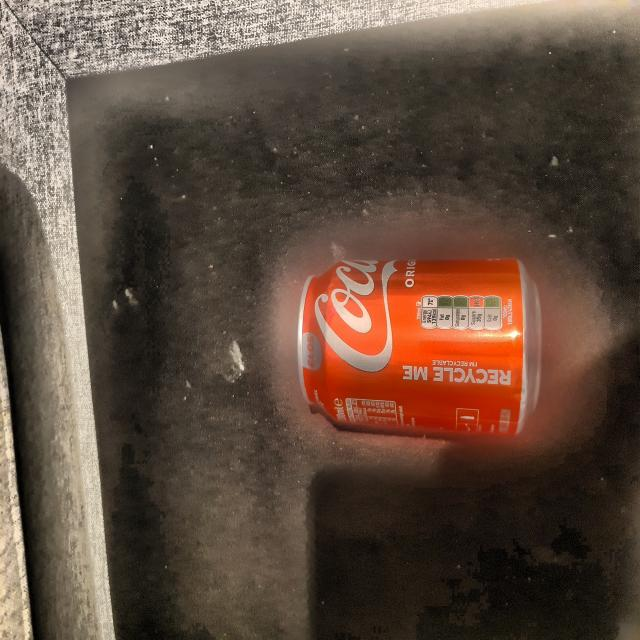coke-can: (289, 246, 538, 447)
